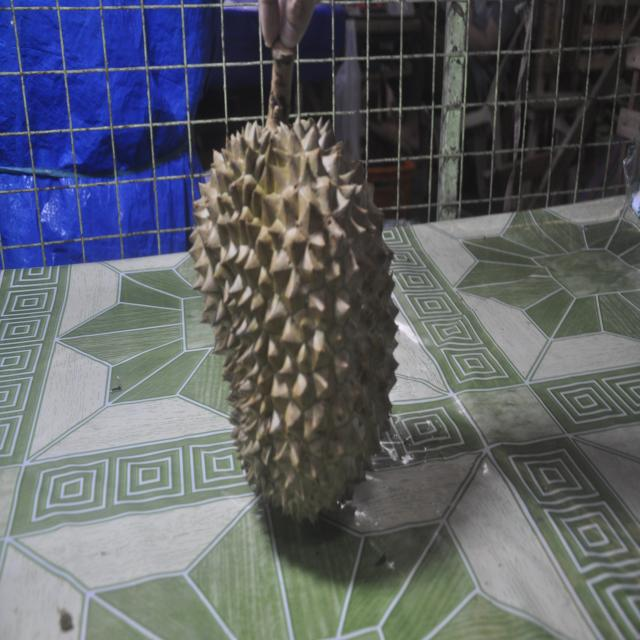mature: (190, 42, 398, 524)
